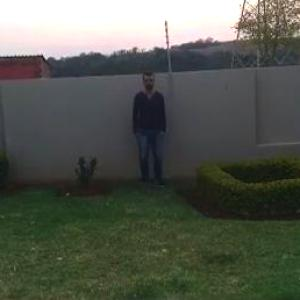follow: (130, 67, 168, 192)
